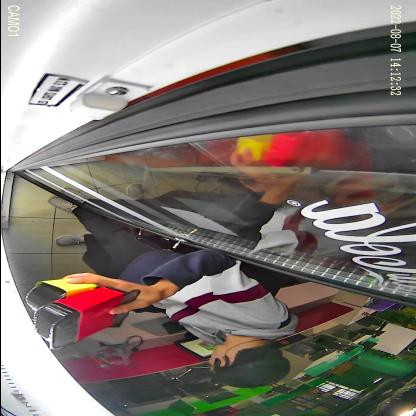red: (32, 286, 140, 350)
yellow: (22, 278, 100, 312)
